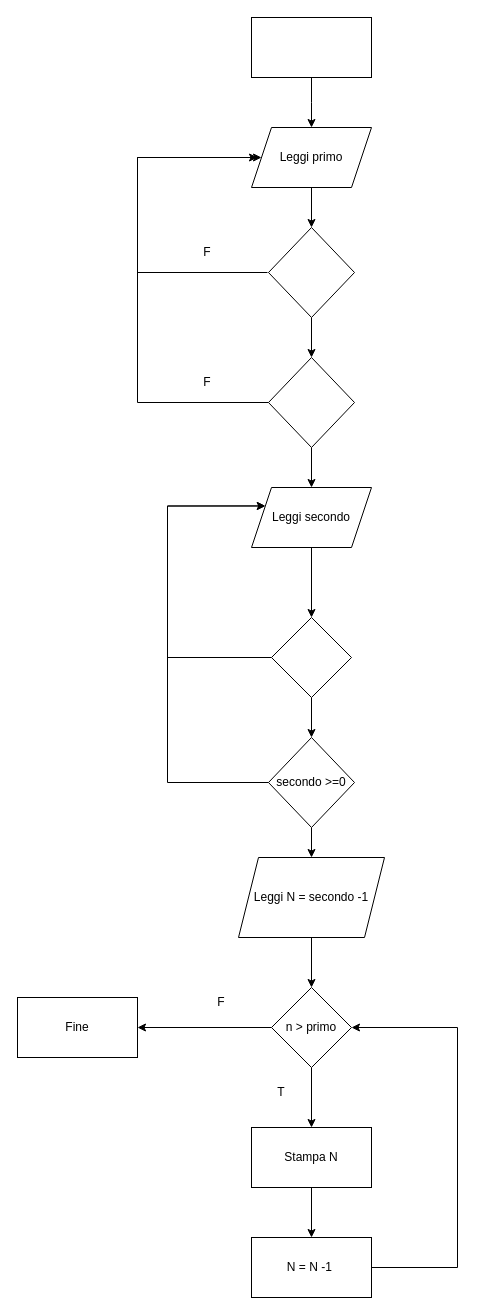
Image size: 483x1315. Some labels were removed from this diagram. The box of each missing label's shape, as (x1, y1, x2, y2) in pixels:
Inizio: (250, 16, 372, 78)
primo >=0: (268, 356, 354, 448)
primo è intero: (268, 226, 354, 318)
secondo è intero: (270, 616, 352, 698)
